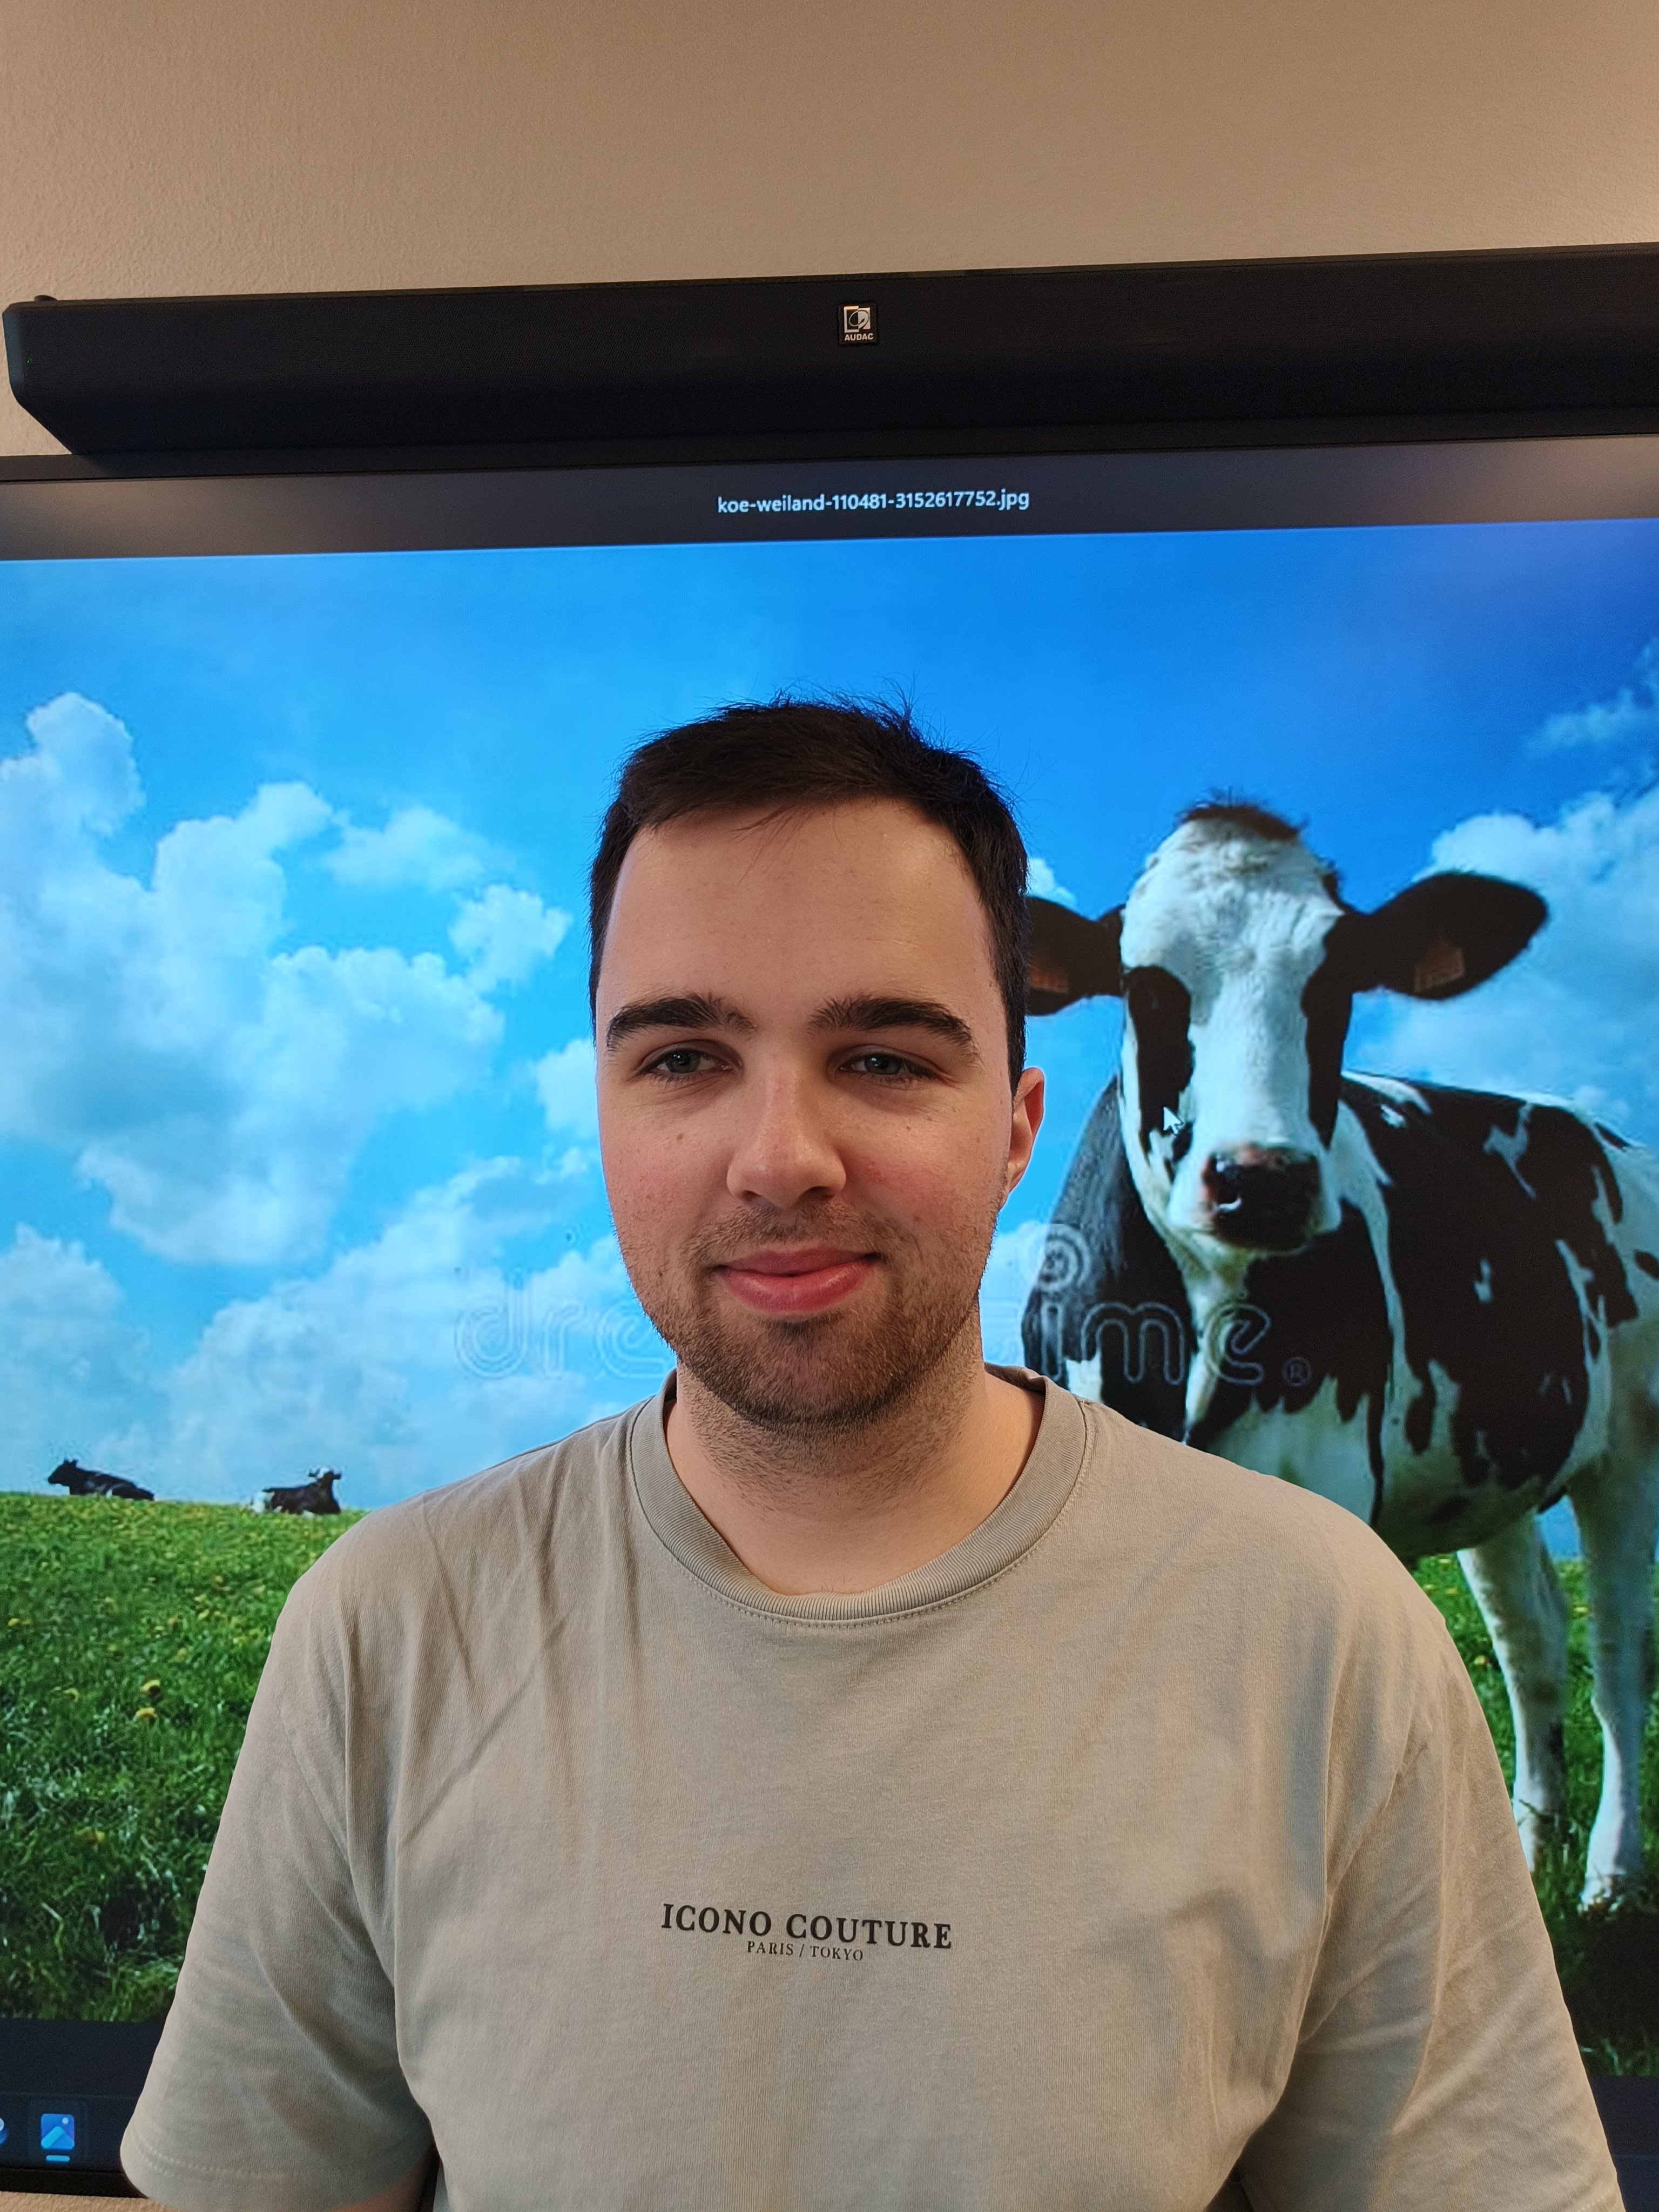face: (545, 726, 1054, 1449)
